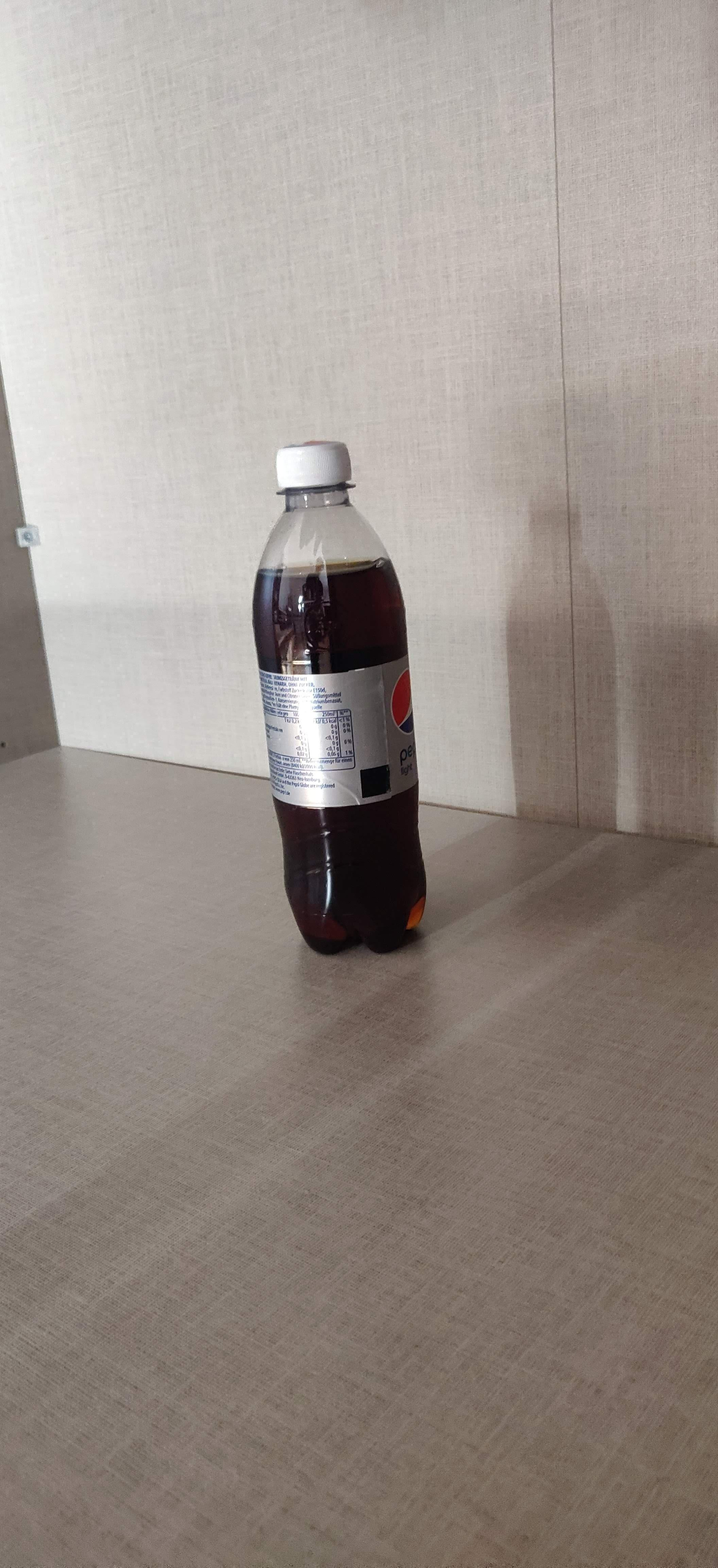bottle-plastic: (250, 438, 431, 954)
